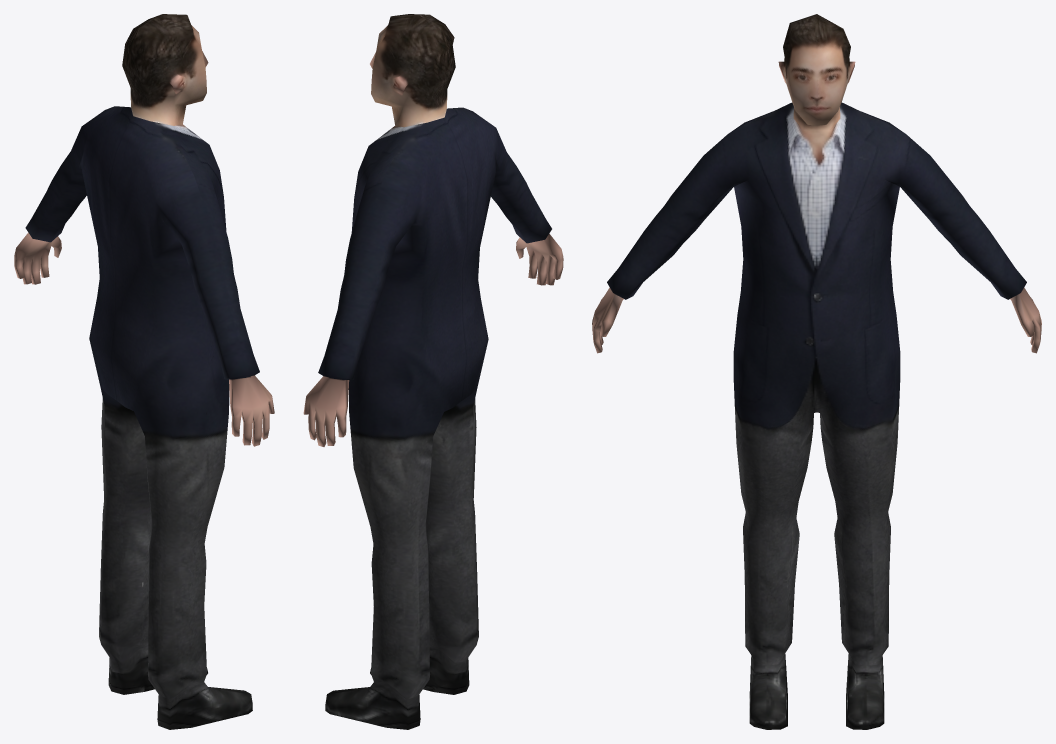
File: Character_Male_40.fbx
The picture shows the model from 3 angles, left to right: view 1: azimuth 30°, elevation 25°; view 2: azimuth 150°, elevation 25°; view 3: azimuth 270°, elevation 25°; orthographic projection.
Visible parts, largest first — view 1: Character_Male_40; view 2: Character_Male_40; view 3: Character_Male_40.
Part boxes in pixels (box(x1,y1,x2,y2)): Character_Male_40: box(14, 14, 274, 729); Character_Male_40: box(303, 14, 563, 729); Character_Male_40: box(592, 14, 1041, 729).
Bounding box in the file's own units: 0.3029 × 1.69 × 1.01.
